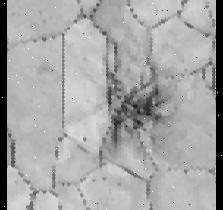good_void: (103, 75, 166, 151), (81, 134, 88, 141), (99, 175, 107, 181), (81, 56, 86, 60)
